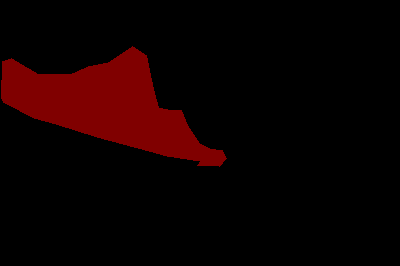fire: (1, 46, 226, 166)
